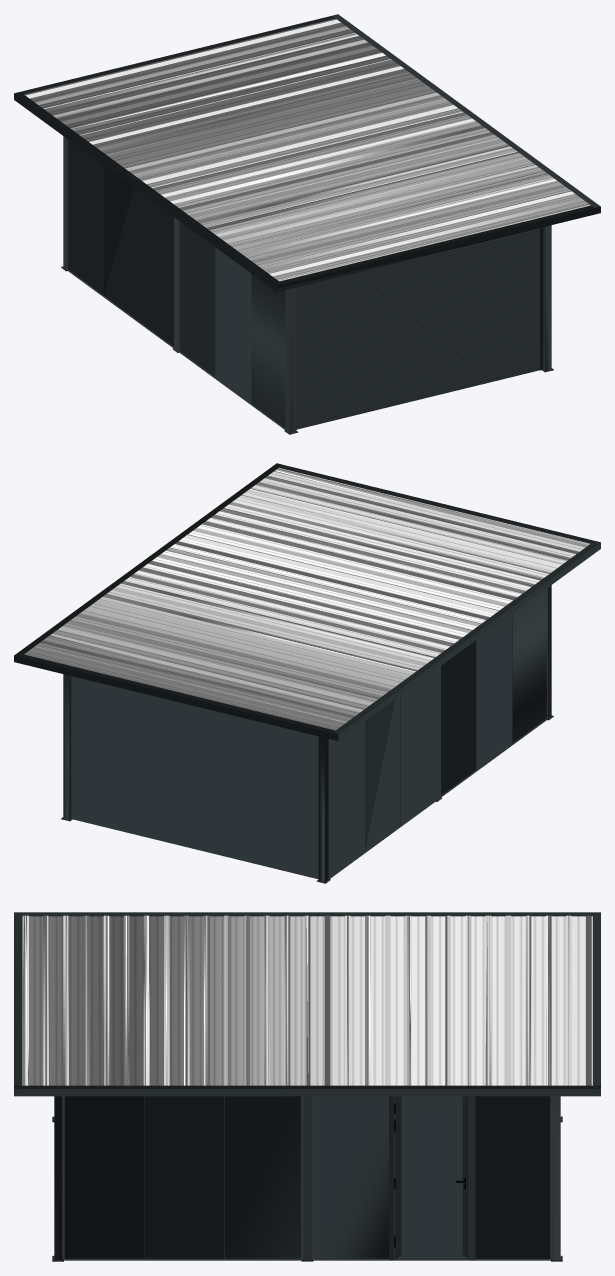
3 views of the same model, one above another, from view 1: azimuth 30°, elevation 25°; view 2: azimuth 150°, elevation 25°; view 3: azimuth 270°, elevation 25° (orthographic). The views are drawn at different scales.
Visible parts, largest first — view 1: priximbattable_net_abris_de_voiture_640017_garage_toit_plat_, lame_12, lame_6, lame, lame_14, lame_13, lame_11, lame_10, lame_8, lame_7, lame_5, lame_4 (+9 smaller); view 2: priximbattable_net_abris_de_voiture_640017_garage_toit_plat_; view 3: priximbattable_net_abris_de_voiture_640017_garage_toit_plat_, folha, porta.
Part boxes in pixels (x1=…): priximbattable_net_abris_de_voiture_640017_garage_toit_plat_: x1=14, y1=14, x2=600, y2=434; lame_12: x1=297, y1=257, x2=539, y2=324; lame_6: x1=297, y1=304, x2=539, y2=371; lame: x1=297, y1=351, x2=539, y2=418; lame_14: x1=297, y1=242, x2=539, y2=308; lame_13: x1=297, y1=249, x2=539, y2=316; lame_11: x1=297, y1=265, x2=539, y2=332; lame_10: x1=297, y1=273, x2=539, y2=339; lame_8: x1=297, y1=289, x2=539, y2=355; lame_7: x1=297, y1=296, x2=539, y2=363; lame_5: x1=297, y1=312, x2=539, y2=379; lame_4: x1=297, y1=320, x2=539, y2=386; priximbattable_net_abris_de_voiture_640017_garage_toit_plat_: x1=14, y1=463, x2=600, y2=883; priximbattable_net_abris_de_voiture_640017_garage_toit_plat_: x1=14, y1=912, x2=600, y2=1261; folha: x1=394, y1=1096, x2=469, y2=1260; porta: x1=389, y1=1096, x2=475, y2=1260.
Size of the model in its own units: 520 by 259 by 730.
Materials: 1 (1 with a texture image).
